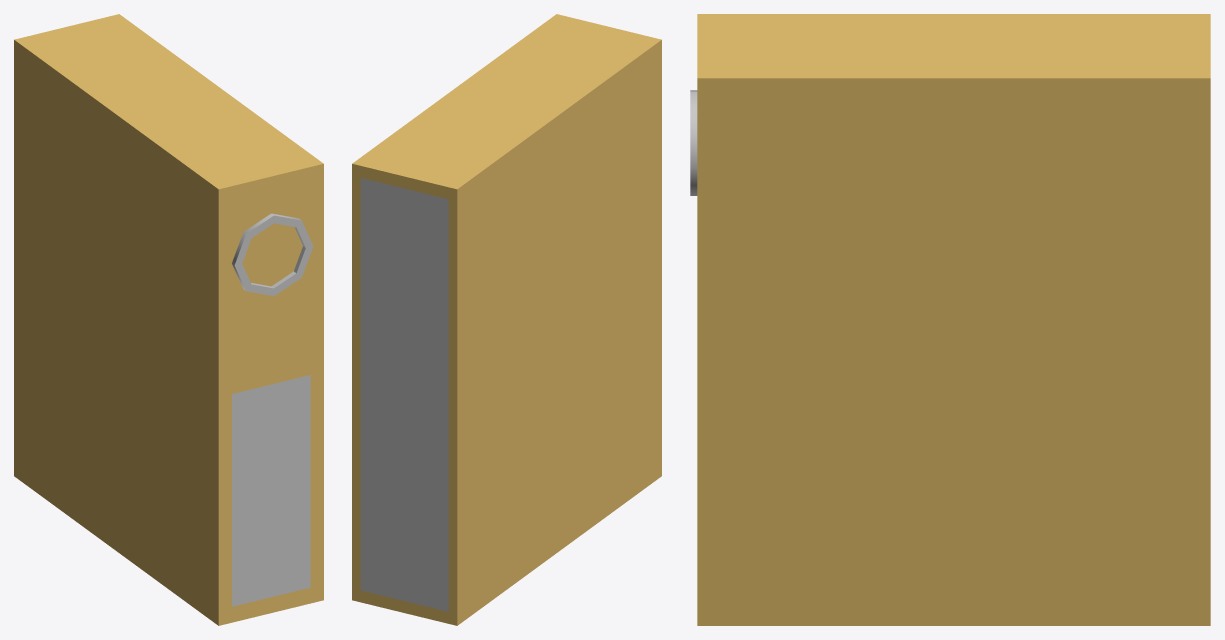
File: file book1.FBX
The picture shows the model from 3 angles, left to right: view 1: azimuth 30°, elevation 25°; view 2: azimuth 150°, elevation 25°; view 3: azimuth 270°, elevation 25°; orthographic projection. The views are drawn at different scales.
Visible parts, largest first — view 1: file book1; view 2: file book1; view 3: file book1.
Part boxes in pixels (x1,y1,x2,y2): file book1: (14,14,323,625); file book1: (352,14,661,625); file book1: (690,14,1210,625).
Bounding box in the file's own units: 6.73 × 26.69 × 22.98.
Materials: 1 (1 with a texture image).
